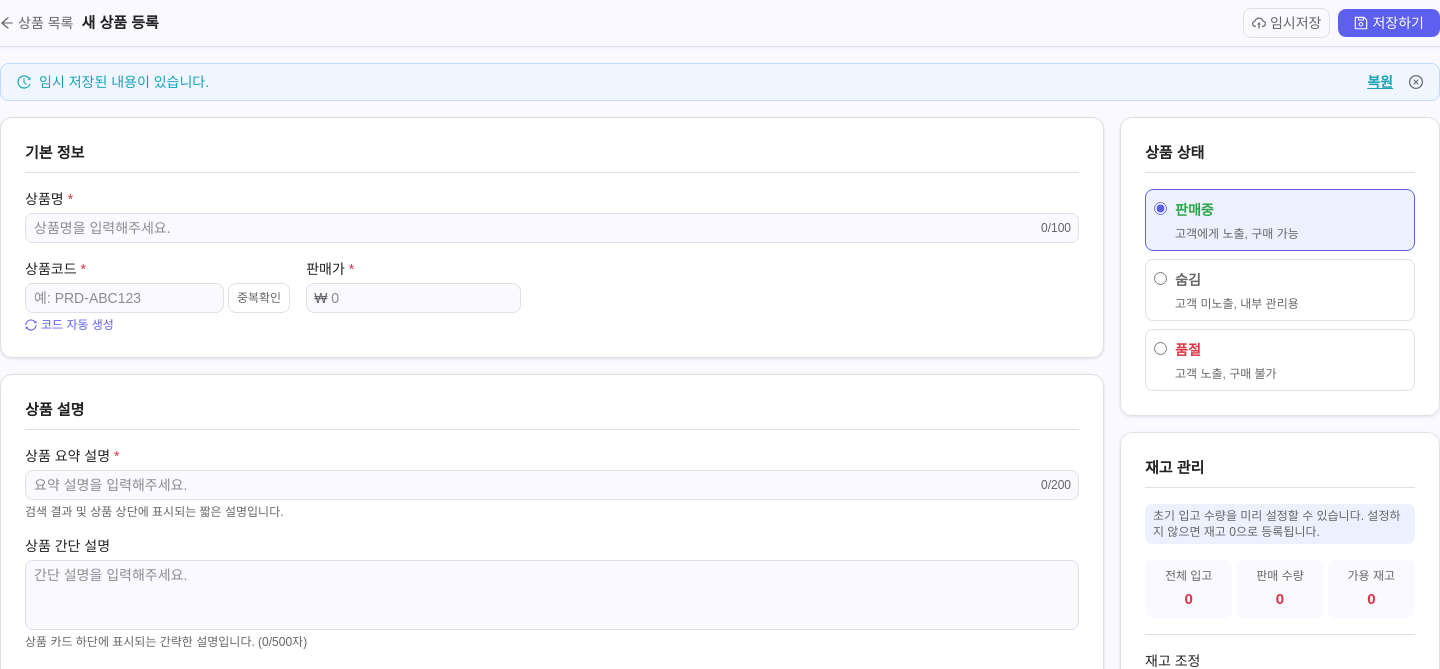
Test: 임시저장 › 무시 클릭 시 배너 닫힘
The image size is (1440, 669).
Click the button named "임시저장 무시": click(1416, 82) [1409,72,1423,92]
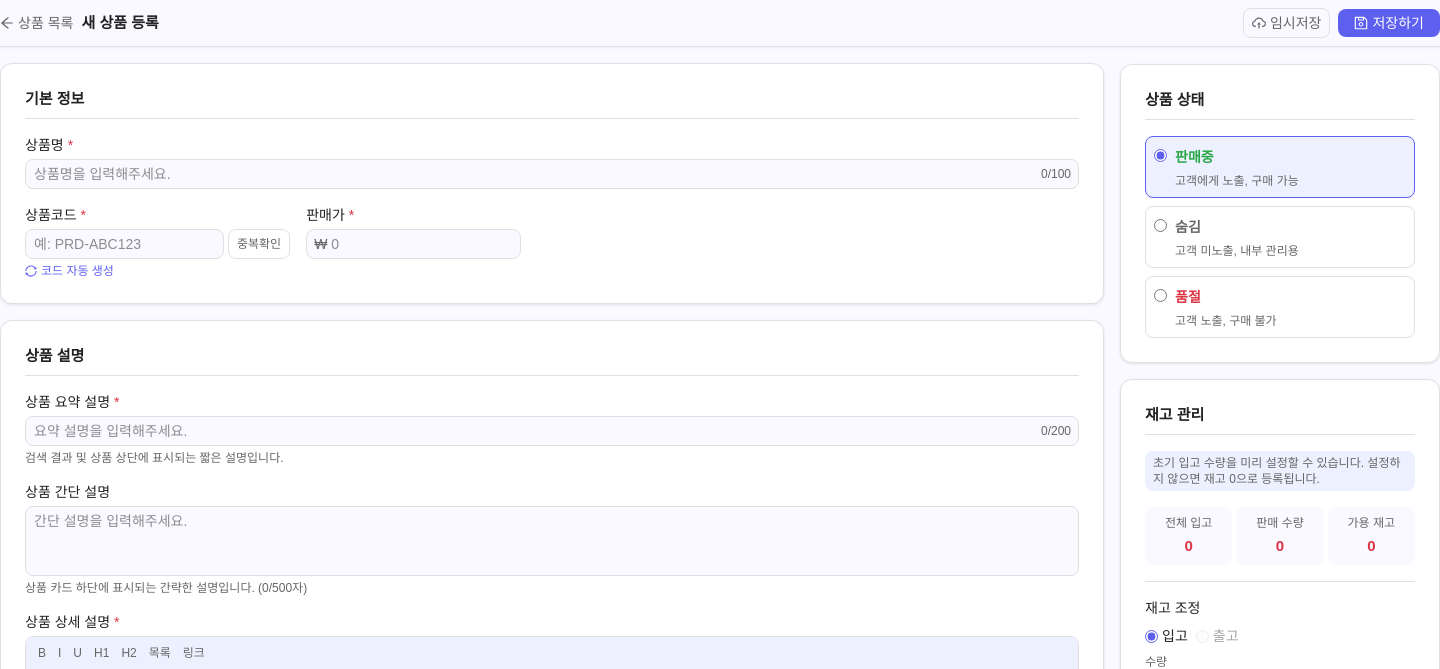
Result: the text "임시 저장된 내용이 있습니다" is gone
